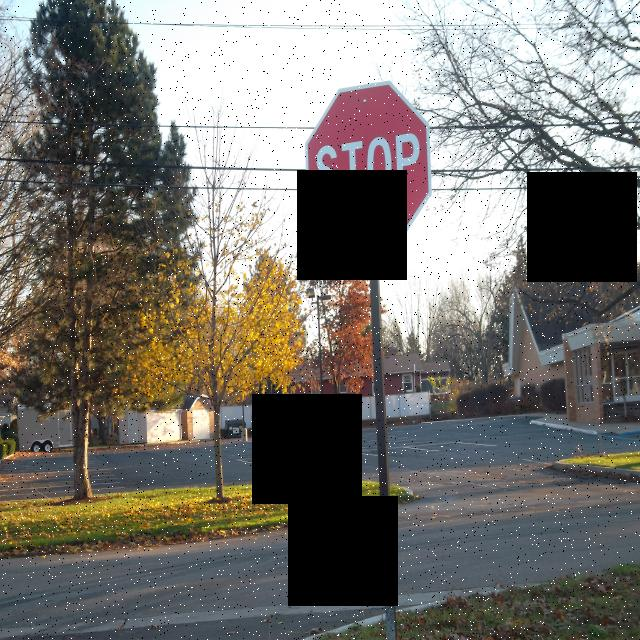stop: (302, 79, 434, 257)
